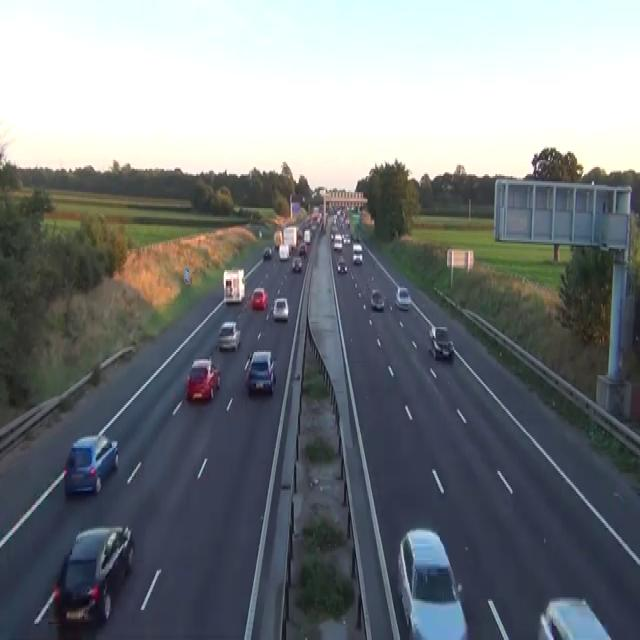Car: (52, 524, 134, 624), (397, 526, 468, 638), (63, 432, 118, 496), (538, 596, 612, 638), (185, 357, 220, 402), (244, 350, 276, 395), (428, 325, 454, 359), (217, 320, 241, 350), (53, 626, 108, 638), (395, 284, 411, 310), (272, 297, 289, 320), (251, 286, 267, 310), (370, 288, 384, 309), (352, 243, 363, 265), (336, 256, 347, 274), (278, 243, 289, 260), (333, 233, 342, 251), (292, 256, 302, 272), (244, 352, 252, 372), (263, 246, 272, 260), (330, 226, 338, 240), (352, 242, 362, 252), (299, 242, 306, 254), (342, 233, 350, 243), (296, 228, 302, 240), (310, 222, 316, 233), (330, 229, 335, 240), (258, 230, 262, 237)
Truck: (223, 268, 245, 304), (282, 226, 297, 249), (348, 212, 360, 240)
